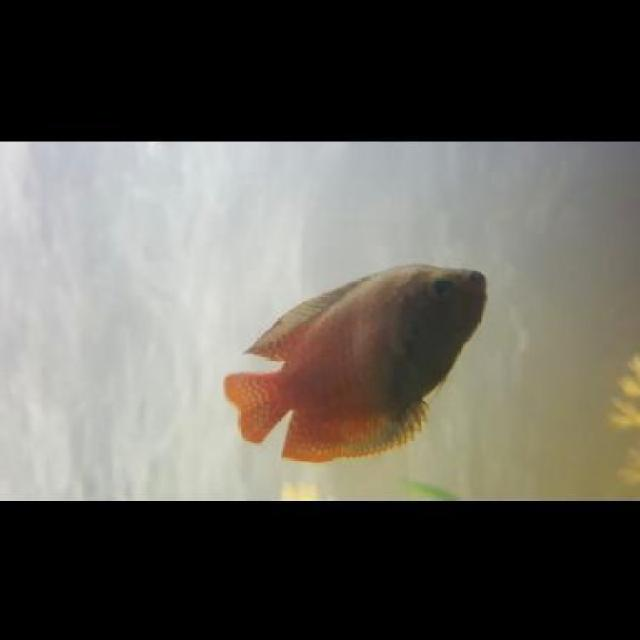Gourami: (220, 262, 491, 461)
